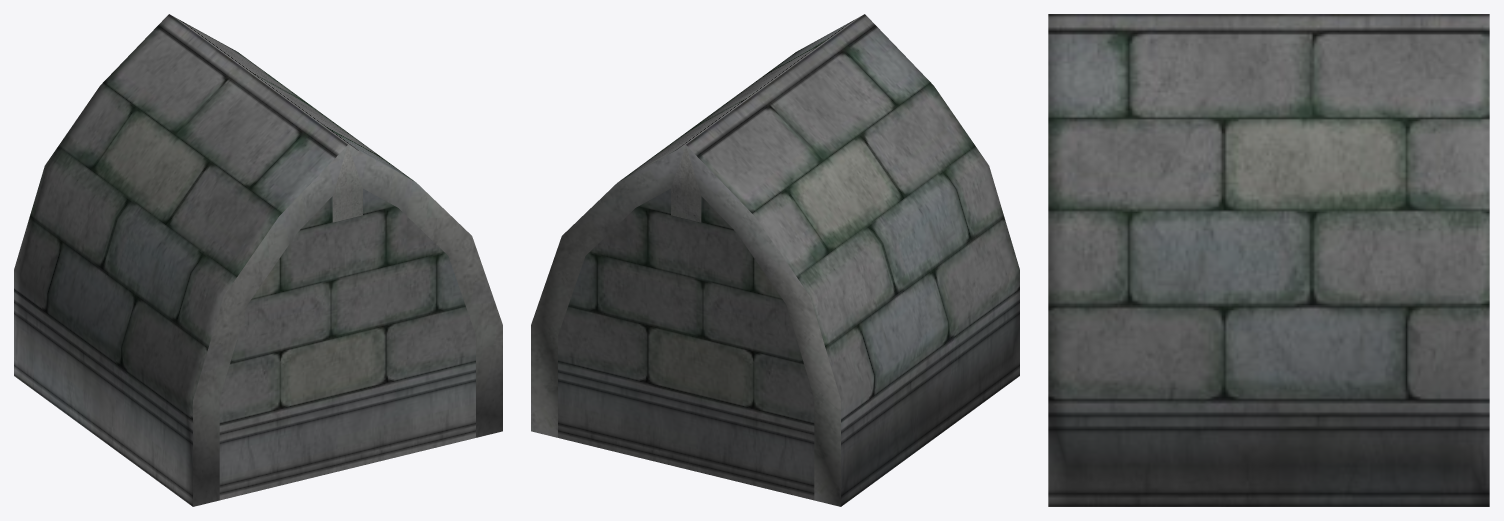
The model's file is barrel_ceiling_small_03.glb.
3 renders of one model, left to right at view 1: azimuth 30°, elevation 25°; view 2: azimuth 150°, elevation 25°; view 3: azimuth 270°, elevation 25°, orthographic. The views are drawn at different scales.
Parts seen in each view (by area): view 1: barrel_ceiling_small_03; view 2: barrel_ceiling_small_03; view 3: barrel_ceiling_small_03.
Part boxes in pixels (x1,y1,x2,y2): barrel_ceiling_small_03: (14, 14, 502, 506); barrel_ceiling_small_03: (531, 14, 1019, 506); barrel_ceiling_small_03: (1048, 14, 1489, 506).
Bounding box in the file's own units: 2 × 2 × 2.
1 material, 1 textured.
